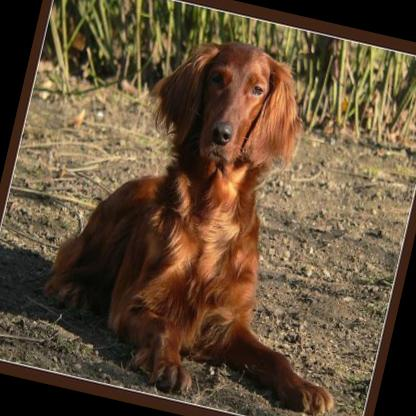Irish_setter: (28, 5, 411, 416)
